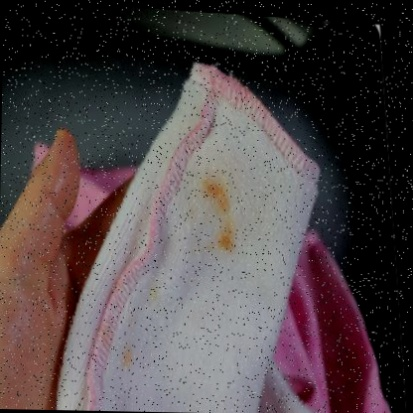kimchi: (198, 174, 238, 210), (213, 224, 244, 259), (112, 349, 126, 372)
